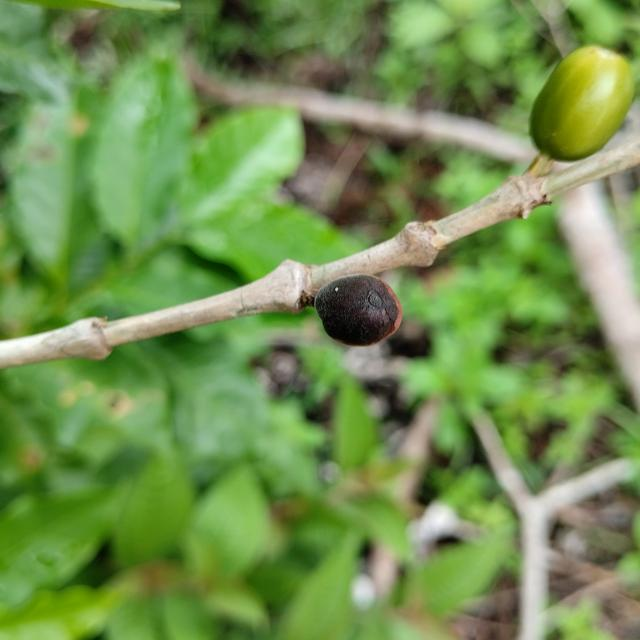green: (531, 45, 635, 160)
red: (314, 274, 402, 346)
